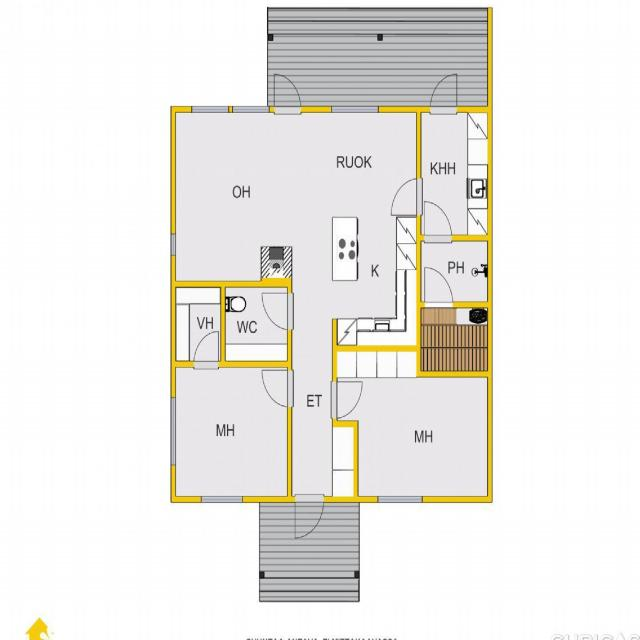door: (295, 496, 324, 541), (424, 198, 452, 241), (259, 371, 292, 407), (425, 264, 452, 307), (332, 382, 364, 418), (274, 70, 301, 112), (430, 70, 457, 112), (260, 294, 292, 329), (390, 178, 421, 214), (194, 328, 218, 367)
